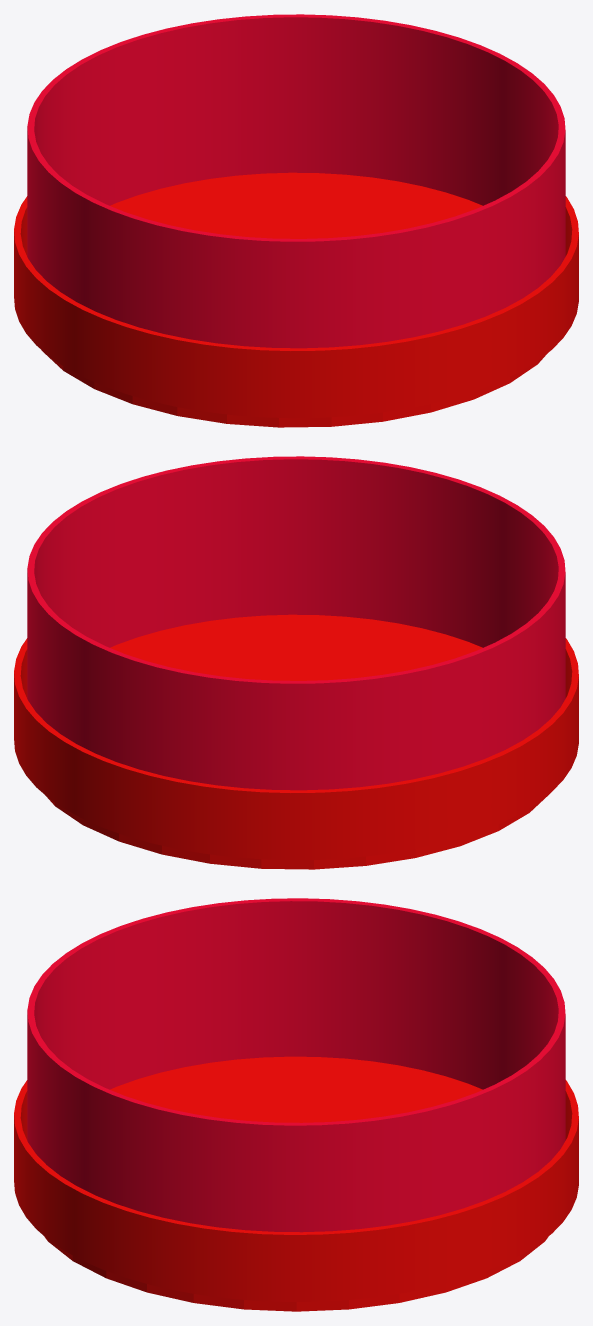
Rendered from red_tin.dae.
3 views of the same model, one above another, from view 1: azimuth 30°, elevation 25°; view 2: azimuth 150°, elevation 25°; view 3: azimuth 270°, elevation 25° (orthographic).
Visible parts, largest first — view 1: SketchUp.001, SketchUp, SketchUp.002, Cylinder, SketchUp.003; view 2: SketchUp.001, SketchUp, SketchUp.002, Cylinder, SketchUp.003; view 3: SketchUp.001, SketchUp, SketchUp.002, Cylinder, SketchUp.003.
Part boxes in pixels (bbox=[...]): SketchUp.001: bbox=[34, 17, 558, 205]; SketchUp: bbox=[27, 14, 565, 348]; SketchUp.002: bbox=[14, 196, 578, 418]; Cylinder: bbox=[41, 172, 547, 427]; SketchUp.003: bbox=[20, 207, 572, 256]; SketchUp.001: bbox=[34, 459, 558, 647]; SketchUp: bbox=[27, 456, 565, 790]; SketchUp.002: bbox=[14, 638, 578, 860]; Cylinder: bbox=[45, 614, 550, 869]; SketchUp.003: bbox=[20, 649, 572, 698]; SketchUp.001: bbox=[34, 901, 558, 1089]; SketchUp: bbox=[27, 898, 565, 1232]; SketchUp.002: bbox=[14, 1080, 578, 1301]; Cylinder: bbox=[44, 1056, 548, 1311]; SketchUp.003: bbox=[20, 1091, 572, 1139].
Size of the model in its own units: 0.084 by 0.084 by 0.0305.
